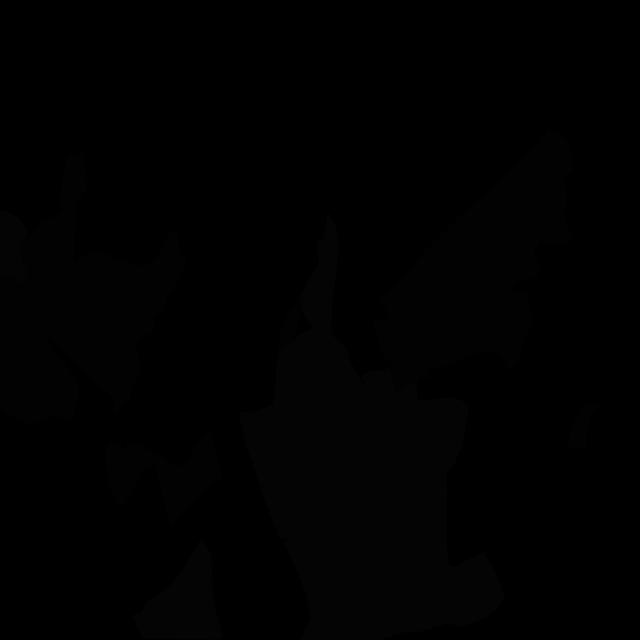cardboard: (372, 128, 573, 394), (20, 153, 186, 415), (0, 254, 79, 425), (154, 428, 222, 527), (105, 441, 158, 508), (277, 291, 303, 362), (566, 415, 589, 449), (575, 402, 600, 418)
soft_plastic: (284, 368, 504, 640), (276, 212, 365, 540), (238, 327, 353, 528), (132, 537, 224, 640), (0, 211, 29, 284)
